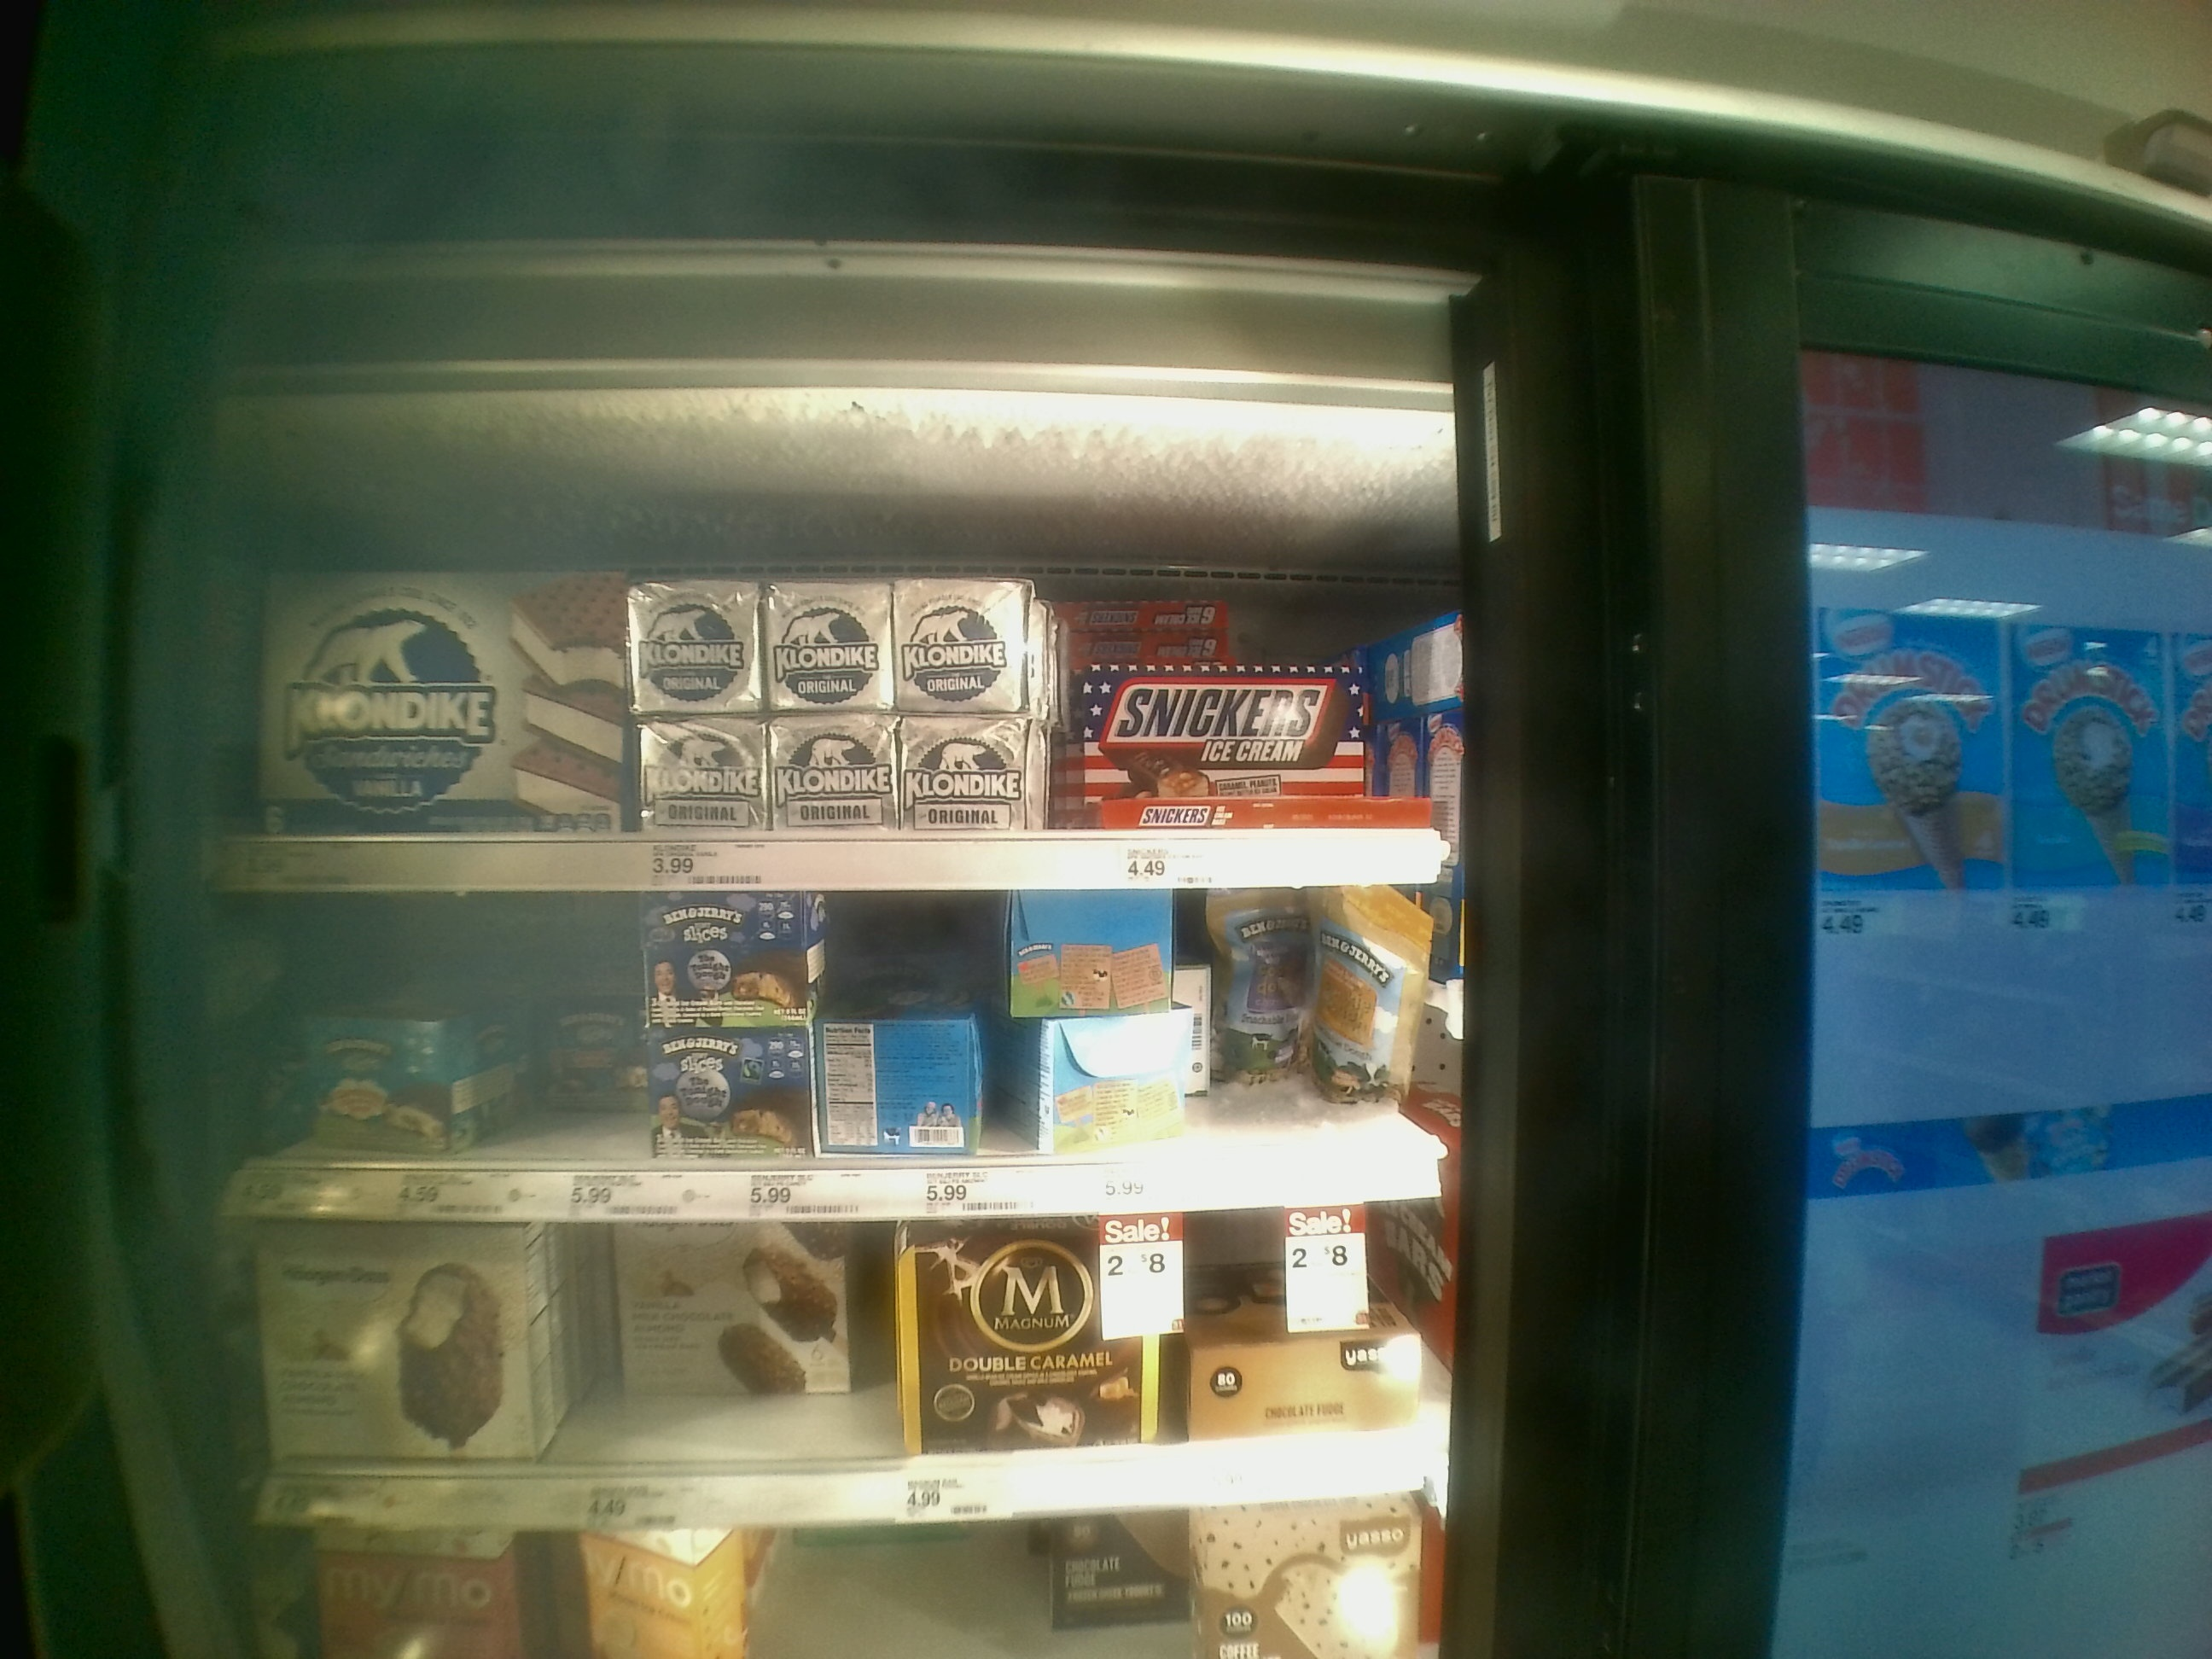ice-cream-shelf: (233, 408, 1453, 884), (230, 887, 1453, 1206), (228, 1211, 1463, 1509)
